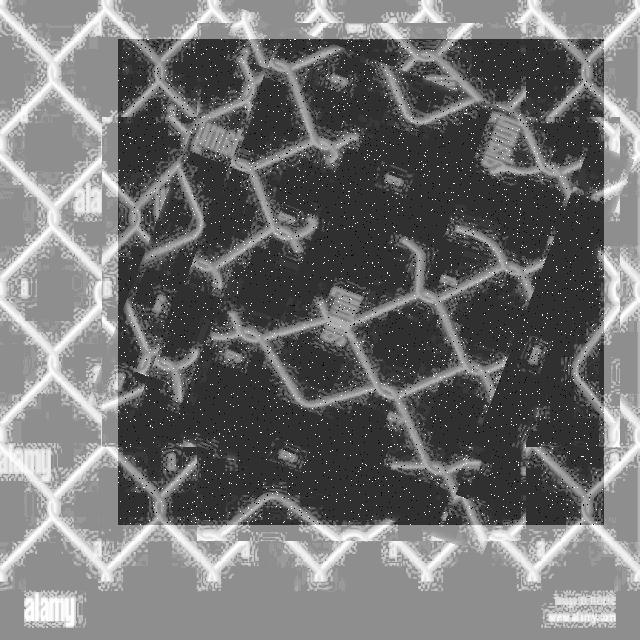anomaly-fence: (118, 39, 604, 525)
